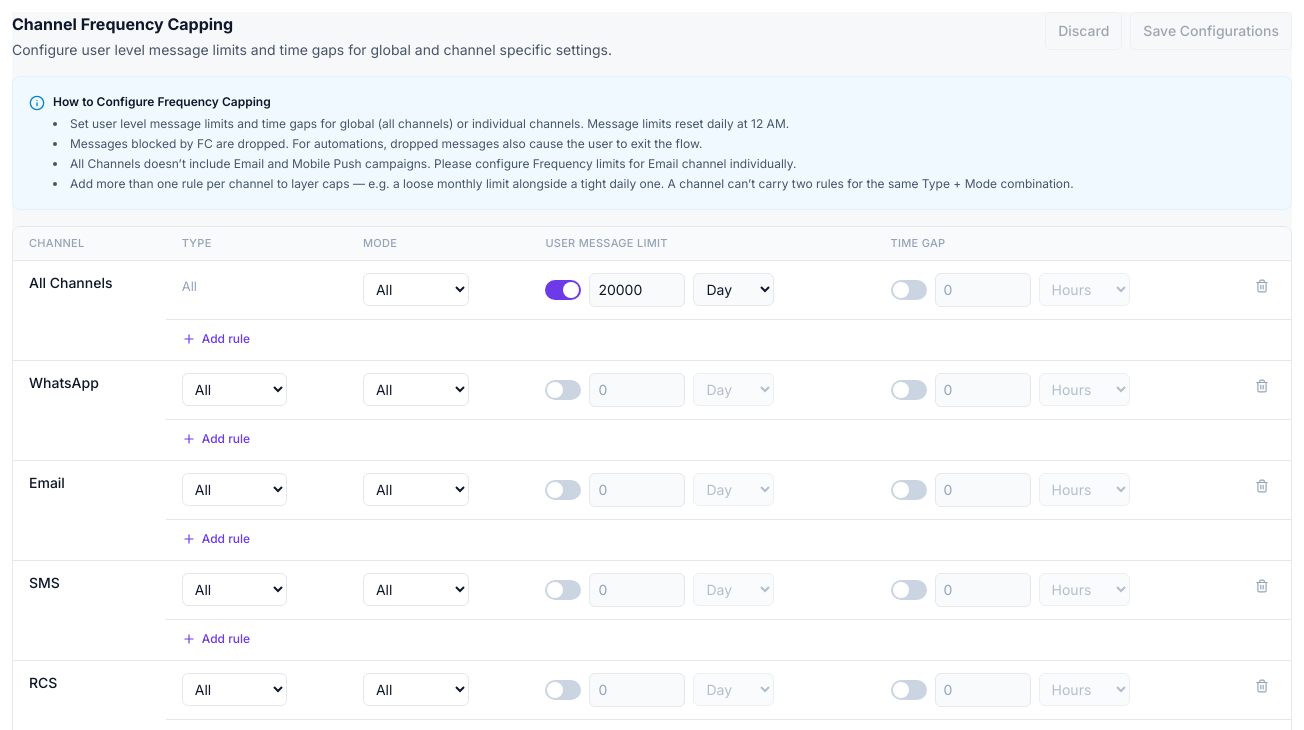
Test: FrequencyCappingTab › removing a rule deletes only that row
This screenshot has width=1304, height=730.
Click the button with test id "fc-channel-whatsapp-add-rule" at x=216, y=438, box [182,430,250,448]
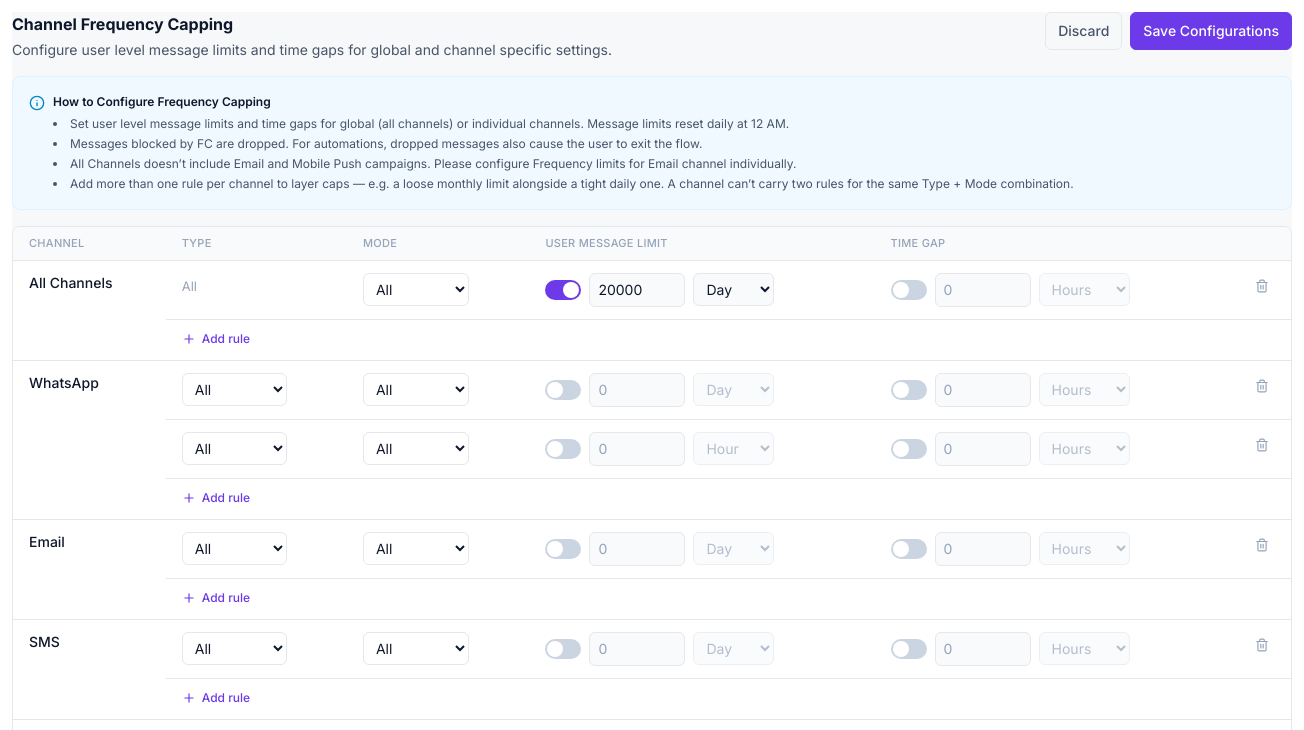
Expected: the row with test id "fc-rule-whatsapp__All__All__Hour" is shown, [13,419,1291,478]
Click the button with test id "fc-rule-whatsapp__All__All__Hour-remove" at x=1262, y=444, box [1249,432,1275,458]
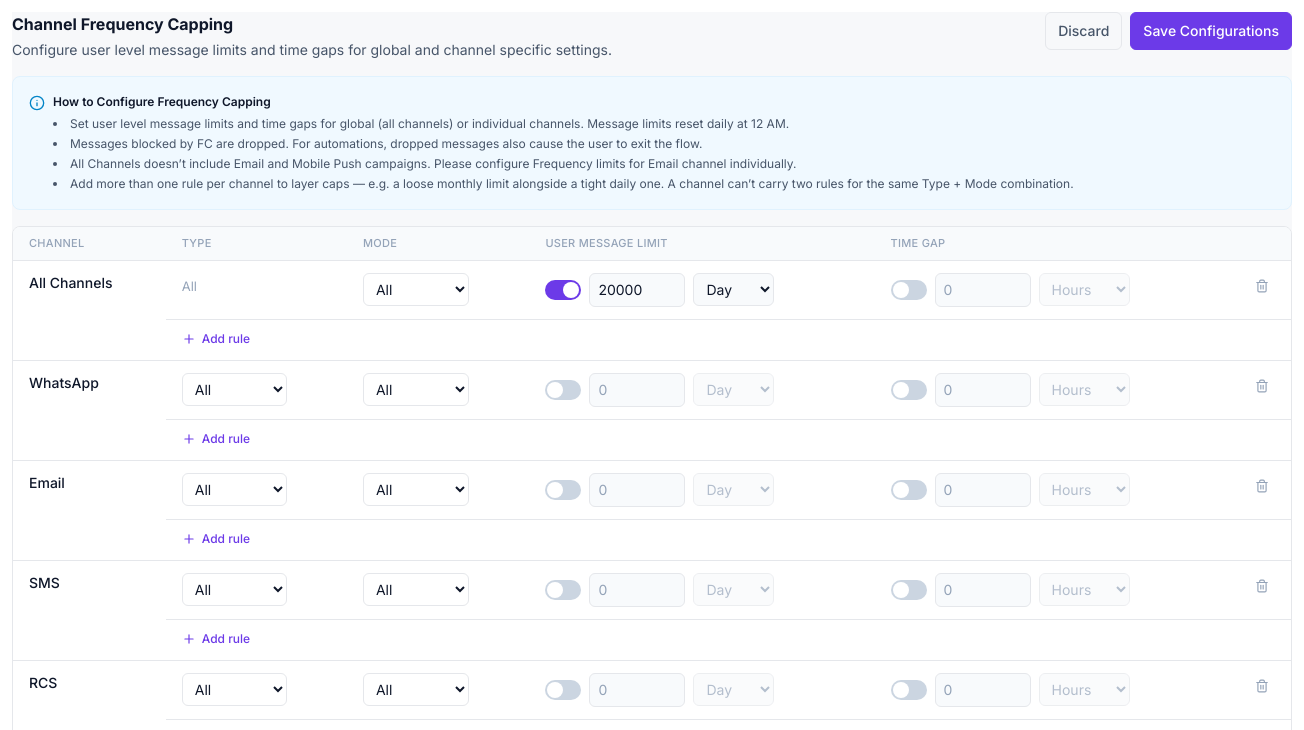
Expected: the row with test id "fc-rule-whatsapp__All__All__Day" is shown, [13,360,1291,419]
Expected: the row with test id "fc-rule-whatsapp__All__All__Hour" is gone
